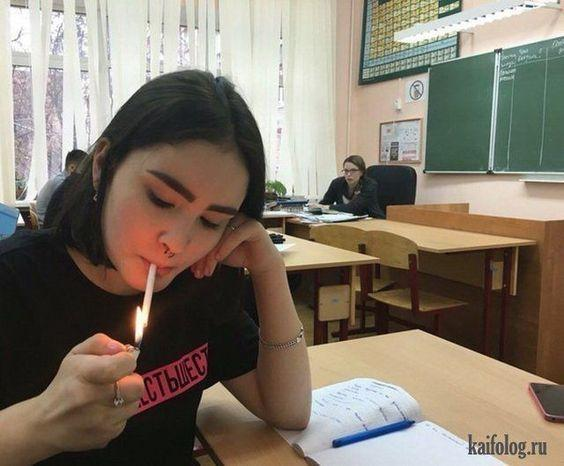cigarette: (140, 264, 157, 328)
